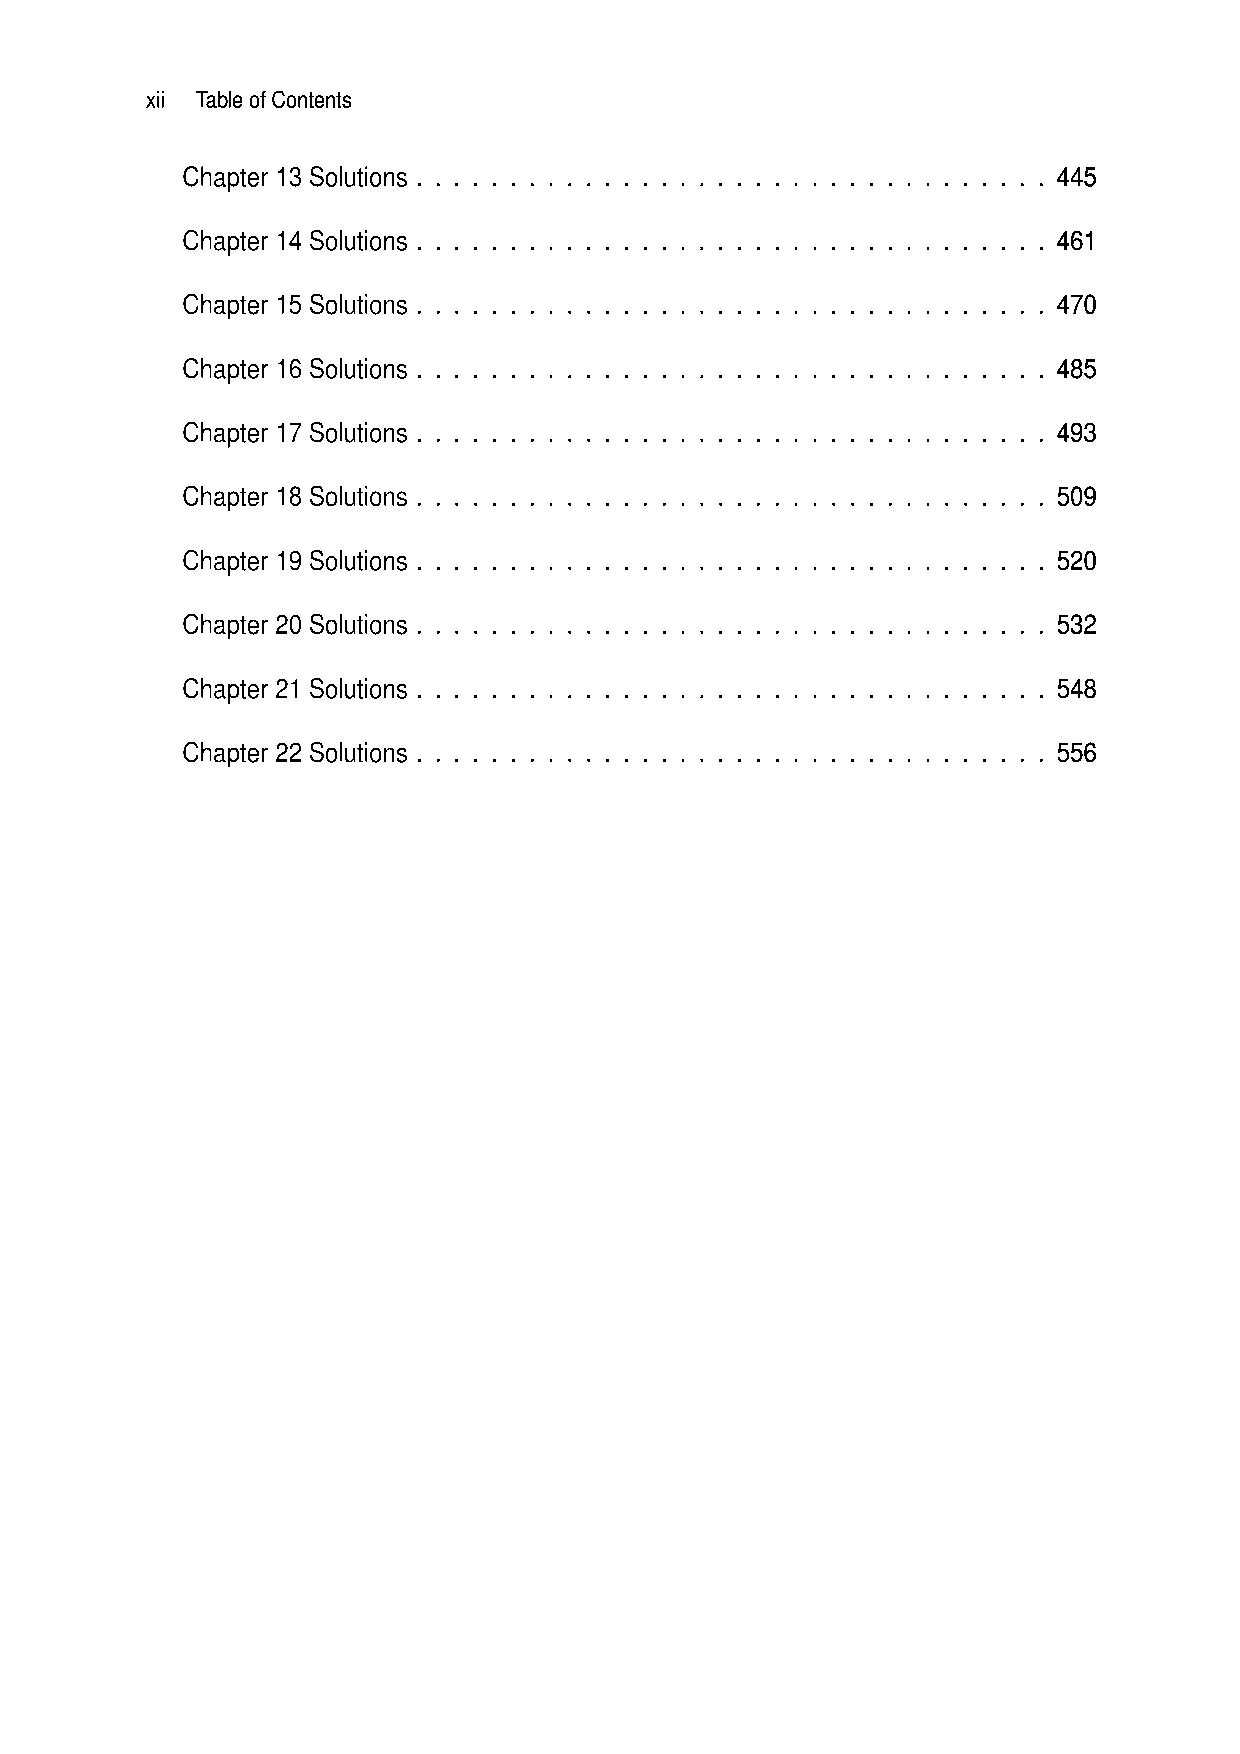TOC_chapter: (173, 150, 411, 200), (176, 603, 413, 648), (166, 409, 409, 452), (173, 285, 408, 326), (173, 475, 413, 515), (166, 224, 411, 262), (169, 348, 411, 385), (180, 539, 415, 577), (176, 735, 411, 770), (176, 672, 413, 706)
TOC_pagenumber: (1049, 472, 1104, 509), (1049, 349, 1104, 382), (1052, 537, 1100, 574), (1047, 219, 1096, 254), (1053, 731, 1102, 765), (1052, 160, 1100, 192), (1056, 607, 1100, 640), (1052, 674, 1102, 701), (1056, 285, 1094, 319), (1059, 417, 1096, 446)
chapter: (187, 79, 360, 115)
